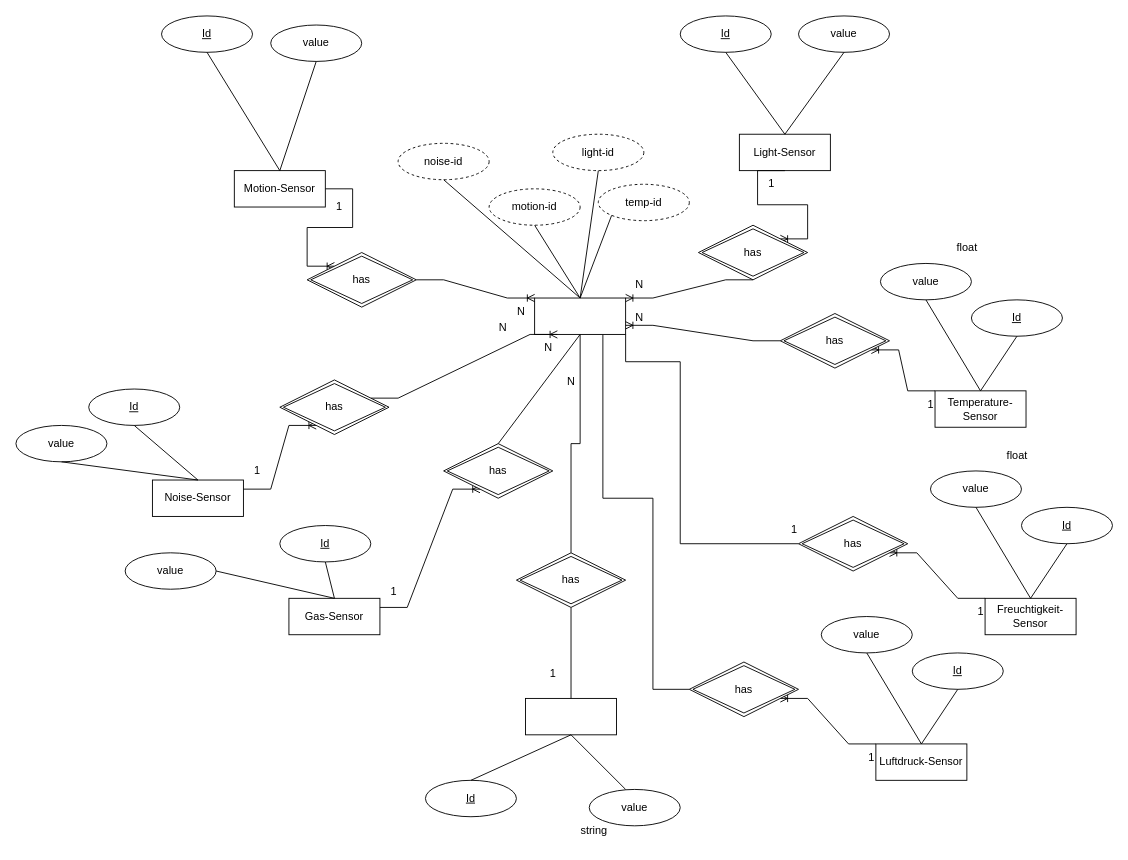
This 1128x860 diagram has some shape labels left out. The shapes that lost their labels are listed below. From the top down, each one's centre as x and y in pixels, then its label:
At (580,315): "Live-data".
At (571,716): "RFID-Leser".
